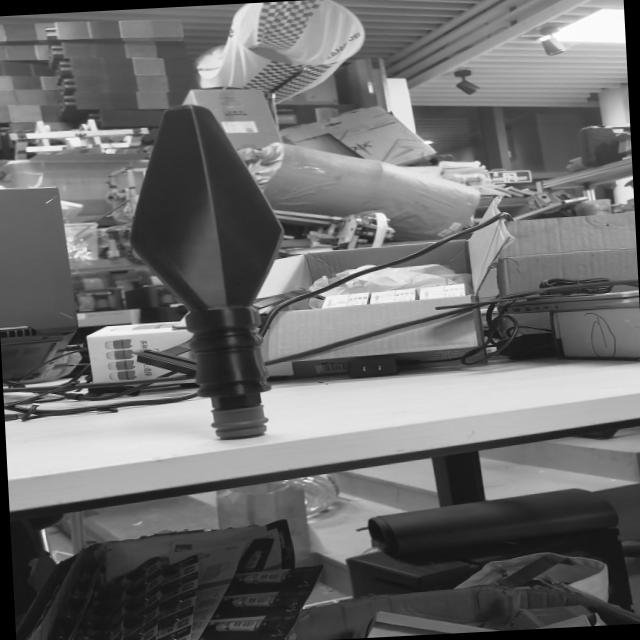base: (200, 402, 274, 446)
